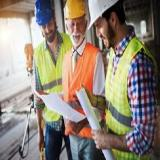Helmet: (87, 0, 124, 30), (34, 0, 55, 25), (63, 0, 86, 20)
Vest: (104, 35, 158, 160), (62, 43, 105, 140), (34, 33, 74, 123)
